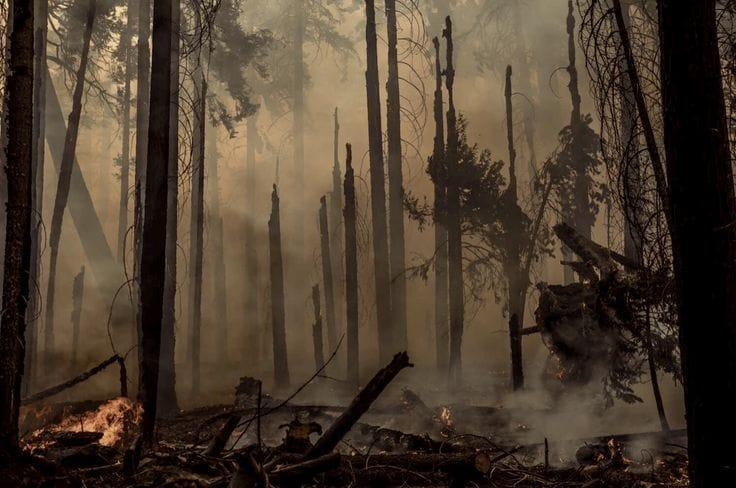Deteksi-Objek-Citra-Berasap: (34, 0, 665, 444)
Titik Api: (28, 396, 143, 452), (438, 404, 453, 436)
Vegetasi: (502, 0, 682, 418), (650, 0, 735, 487), (405, 17, 512, 384), (122, 0, 176, 470), (43, 0, 105, 379), (352, 0, 407, 392), (0, 0, 42, 455), (338, 141, 360, 385), (269, 181, 288, 390)
